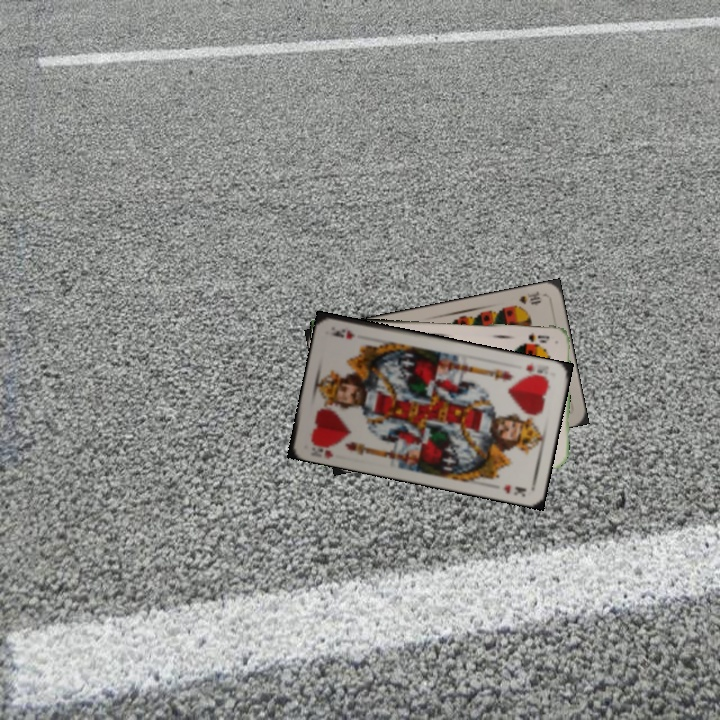HK: (307, 437, 337, 461), (521, 360, 551, 383)
S10: (514, 287, 543, 307)
SO: (525, 329, 552, 345)
